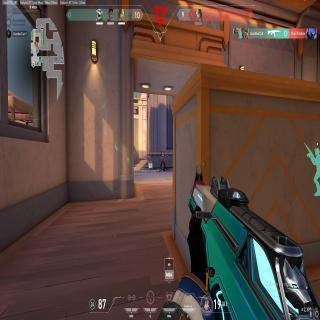ENEMY-BODY: (160, 152, 166, 170)
ENEMY-HEAD: (162, 152, 164, 156)
